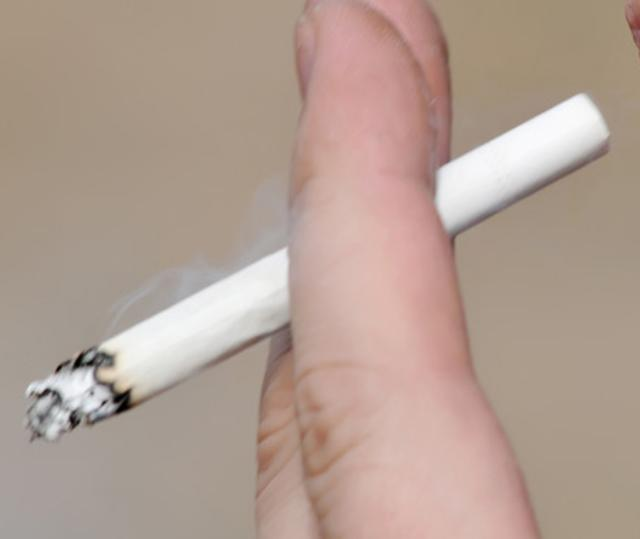Smoking: (23, 86, 613, 444)
